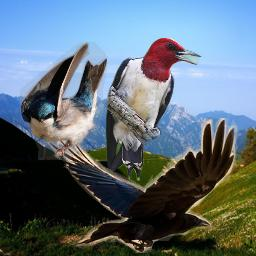Crow: (46, 118, 239, 253)
Swallow: (20, 42, 108, 160)
Woodpecker: (102, 38, 205, 181)
